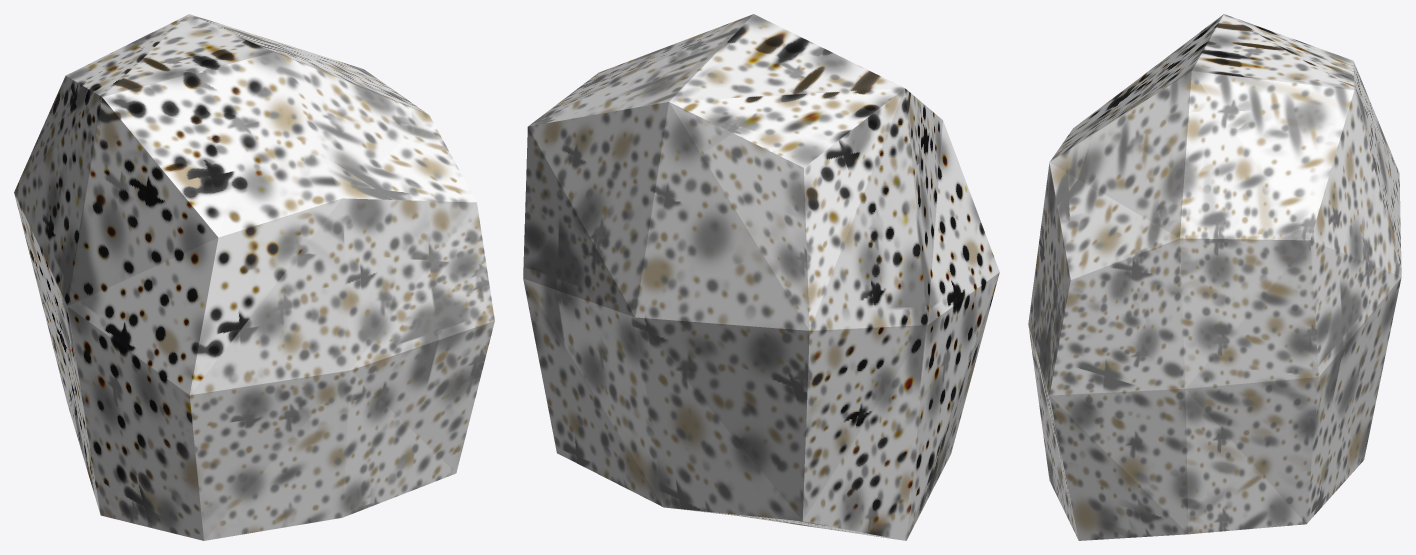
Rendered from rock1.glb.
The picture shows the model from 3 angles, left to right: view 1: azimuth 30°, elevation 25°; view 2: azimuth 150°, elevation 25°; view 3: azimuth 270°, elevation 25°; orthographic projection. The views are drawn at different scales.
Parts seen in each view (by area): view 1: rock-convcol; view 2: rock-convcol; view 3: rock-convcol.
Part boxes in pixels (x1=…): rock-convcol: x1=14, y1=14, x2=494, y2=540; rock-convcol: x1=523, y1=14, x2=999, y2=540; rock-convcol: x1=1028, y1=14, x2=1401, y2=540.
Bounding box in the file's own units: 2.29 × 2.85 × 2.13.
Materials: 1 (1 with a texture image).
